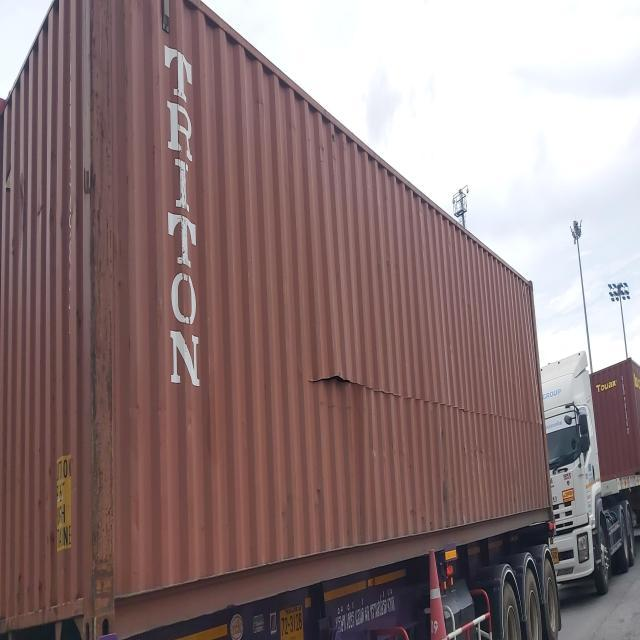hole: (309, 376, 357, 387)
